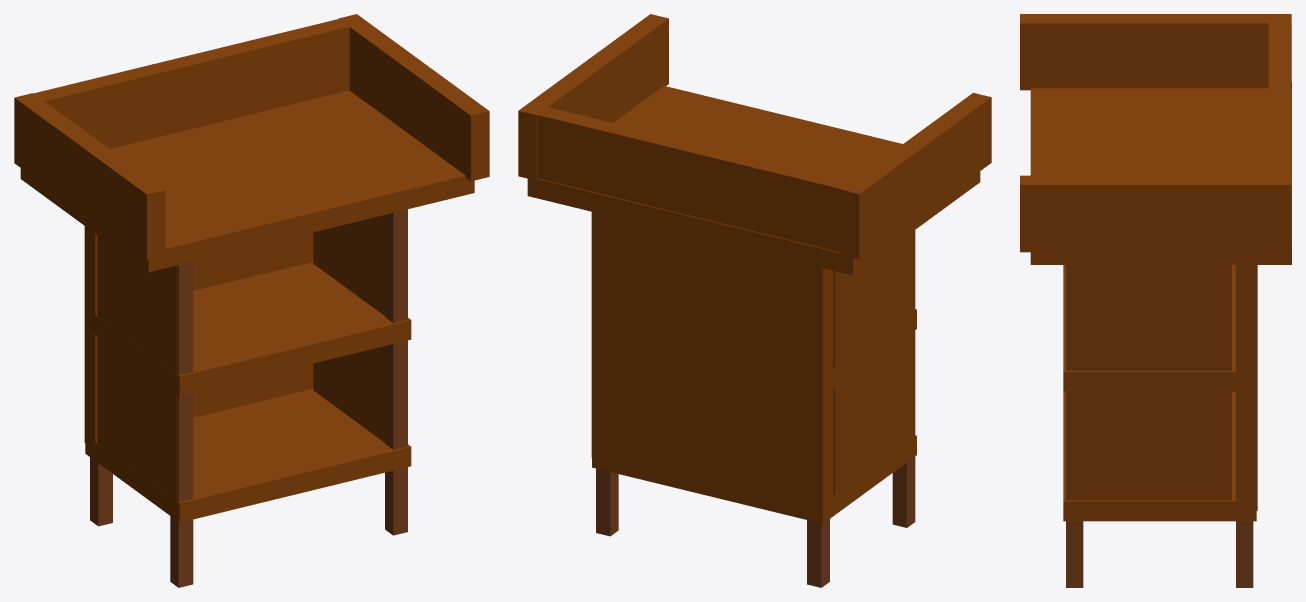
The model's file is teaching.fbx.
The picture shows the model from 3 angles, left to right: view 1: azimuth 30°, elevation 25°; view 2: azimuth 150°, elevation 25°; view 3: azimuth 270°, elevation 25°; orthographic projection. The views are drawn at different scales.
Parts seen in each view (by area): view 1: Cube.010, Cube.011, Cube.005, Cube.009, Cube.007, Cube.012, Cube.013, Cube.006, Cube.008, Cube.003, Cube.002, Cube.001; view 2: Cube.006, Cube.011, Cube.010, Cube.007, Cube.012, Cube.013, Cube.005, Cube.002, Cube.009, Cube.001, Cube; view 3: Cube.008, Cube.010, Cube.013, Cube.012, Cube.006, Cube.005, Cube.009, Cube.011, Cube.003, Cube.
Part boxes in pixels (x1,y1,x2,y2): Cube.010: (20, 90, 474, 272); Cube.011: (20, 16, 359, 148); Cube.005: (85, 388, 411, 522); Cube.009: (85, 262, 411, 395); Cube.007: (97, 235, 176, 500); Cube.012: (14, 93, 165, 260); Cube.013: (338, 14, 489, 181); Cube.006: (84, 226, 313, 448); Cube.008: (313, 215, 384, 442); Cube.003: (385, 209, 407, 535); Cube.002: (170, 261, 193, 587); Cube.001: (90, 457, 112, 526); Cube.006: (591, 212, 833, 513); Cube.011: (529, 107, 865, 252); Cube.010: (527, 86, 980, 275); Cube.007: (833, 231, 913, 495); Cube.012: (841, 92, 991, 259); Cube.013: (518, 14, 668, 178); Cube.005: (592, 435, 916, 523); Cube.002: (892, 230, 915, 527); Cube.009: (823, 309, 916, 396); Cube.001: (807, 519, 829, 587); Cube: (596, 468, 618, 536); Cube.008: (1071, 265, 1231, 500); Cube.010: (1030, 82, 1291, 264); Cube.013: (1020, 175, 1291, 252); Cube.012: (1020, 14, 1291, 90); Cube.006: (1235, 265, 1257, 510); Cube.005: (1063, 391, 1256, 521); Cube.009: (1063, 265, 1235, 391); Cube.011: (1268, 16, 1290, 181); Cube.003: (1066, 265, 1083, 587); Cube: (1236, 521, 1253, 587).
Bounding box in the file's own units: 10467 × 12352 × 7034.
